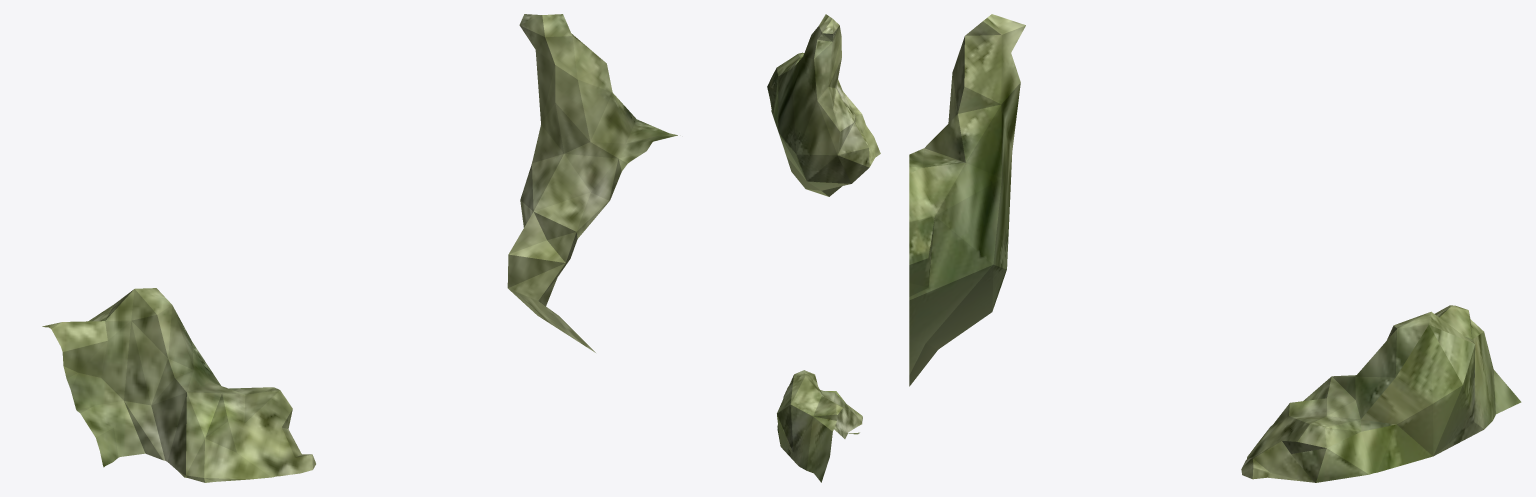
The picture shows the model from 3 angles, left to right: view 1: azimuth 30°, elevation 25°; view 2: azimuth 150°, elevation 25°; view 3: azimuth 270°, elevation 25°; orthographic projection. The views are drawn at different scales.
Bounding box in the file's own units: 1.93 × 2.37 × 2.58.
Materials: 1 (1 with a texture image).
